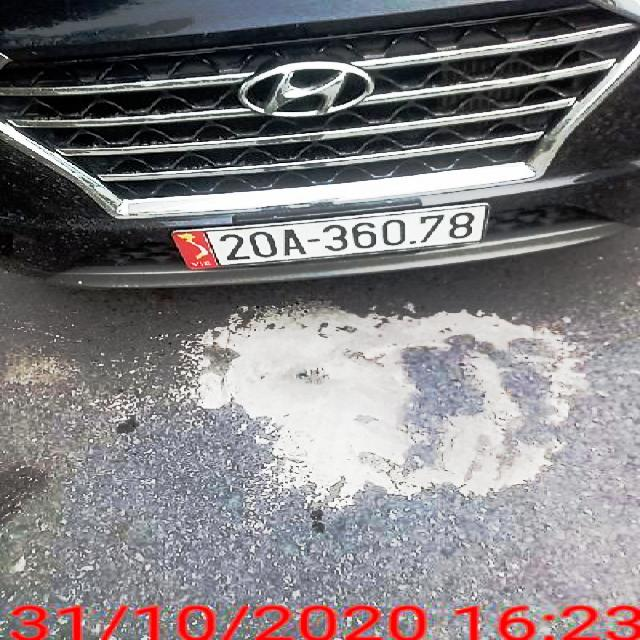license_plate: (173, 204, 492, 271)
